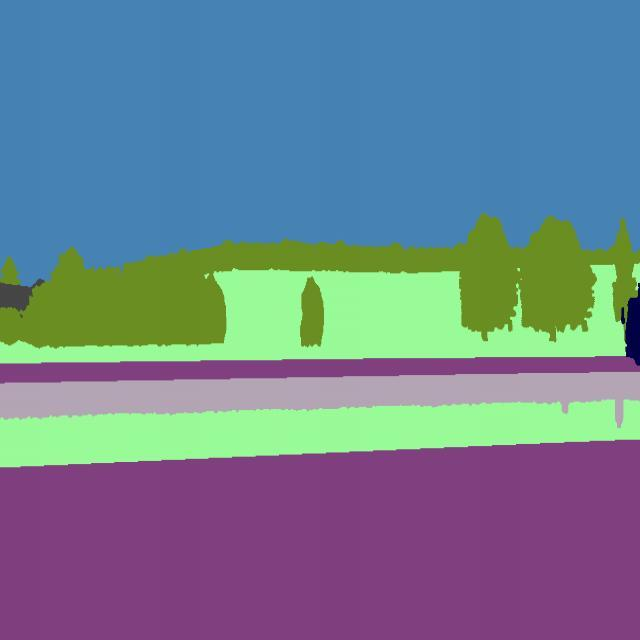safe: (617, 268, 640, 371)
